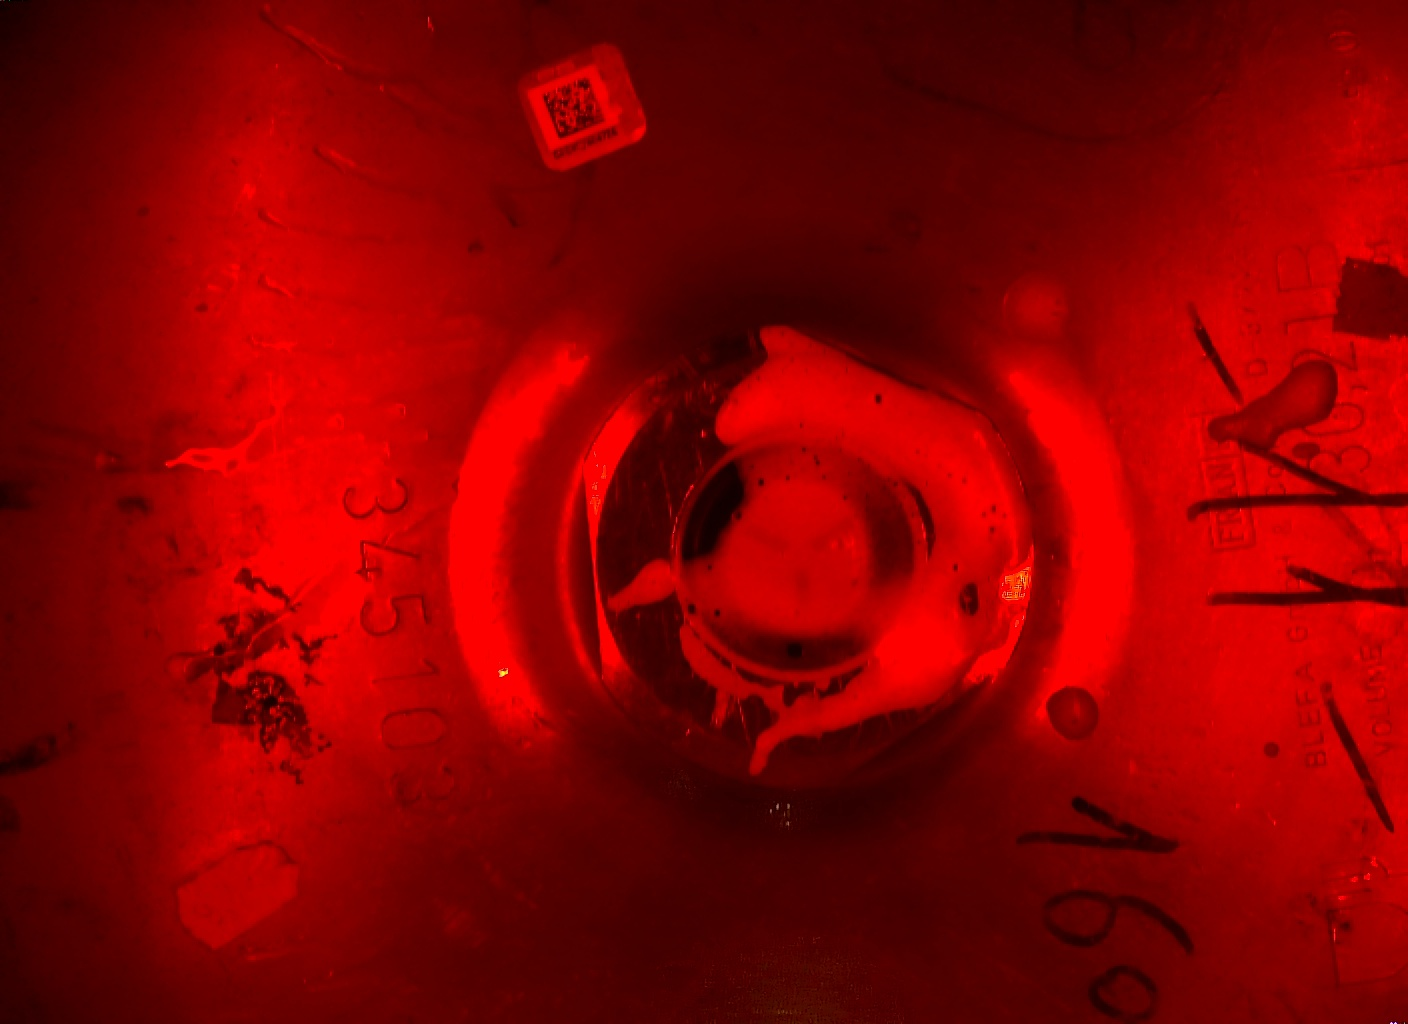pena: (594, 321, 1030, 797), (1188, 353, 1347, 467), (1043, 673, 1139, 770), (994, 273, 1075, 365)
